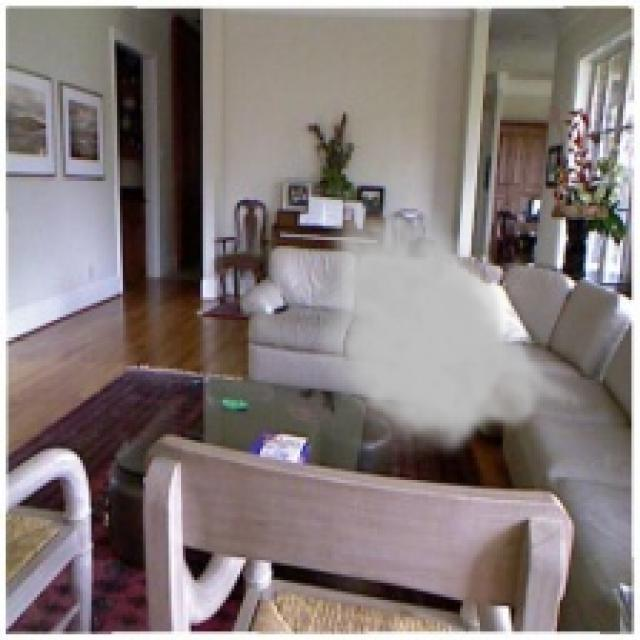Smoke: (314, 188, 592, 463)
